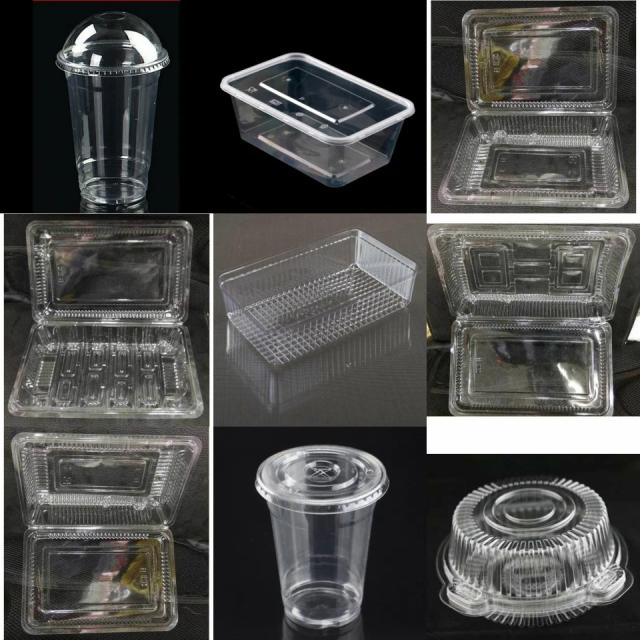Single-Use-Plastic: (428, 226, 634, 415), (439, 6, 630, 208), (11, 432, 201, 634), (9, 220, 202, 418), (438, 478, 631, 626), (219, 229, 418, 364), (221, 52, 415, 187), (255, 445, 389, 629), (56, 11, 169, 212)
